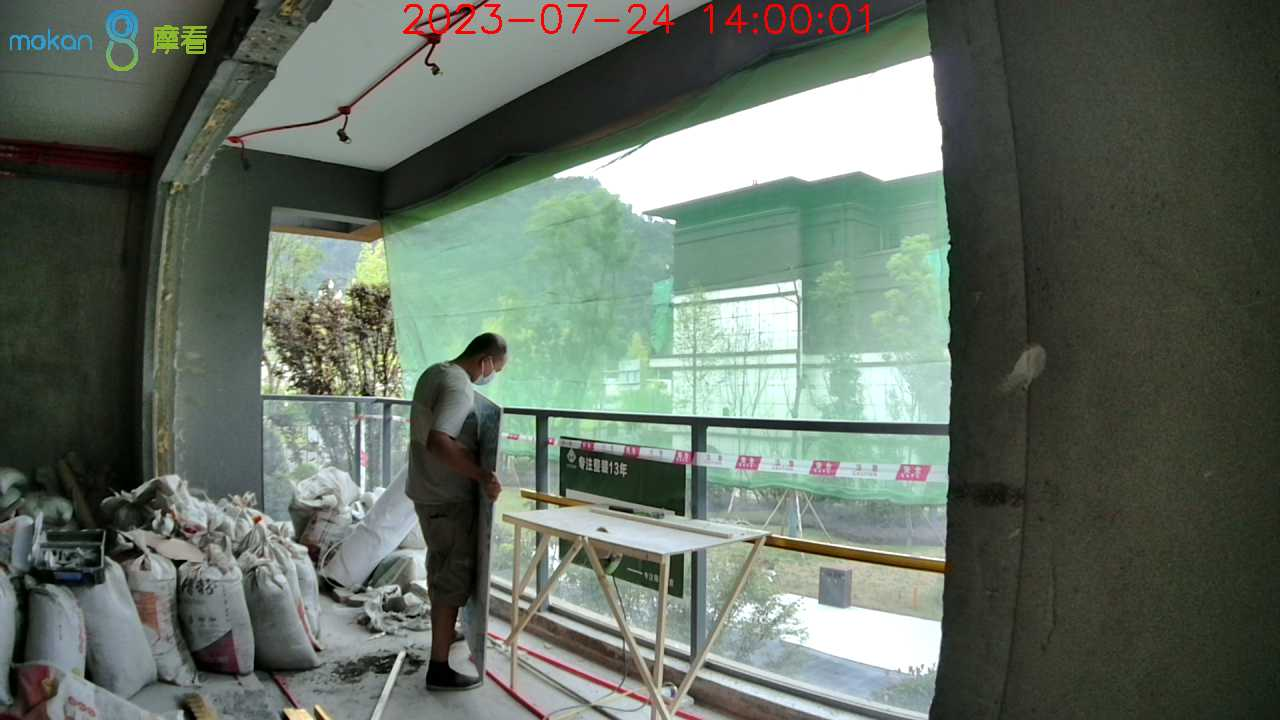people: (400, 330, 511, 704)
window: (264, 101, 948, 713)
